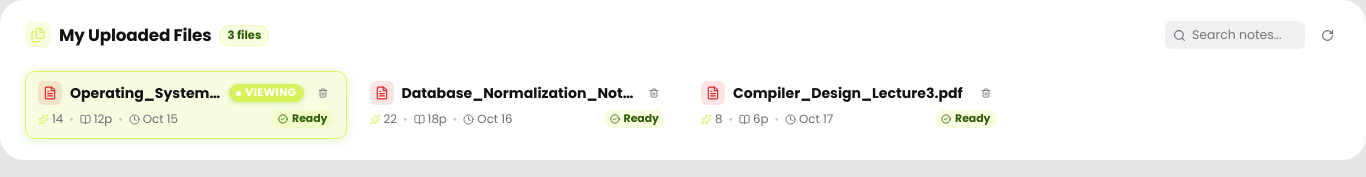
Test case: UploadedFilesSection Component › filters uploaded files by search query
Type "compiler" into the search field named "search uploaded files" at {"x": 1235, "y": 35}, box [1165, 21, 1305, 49]
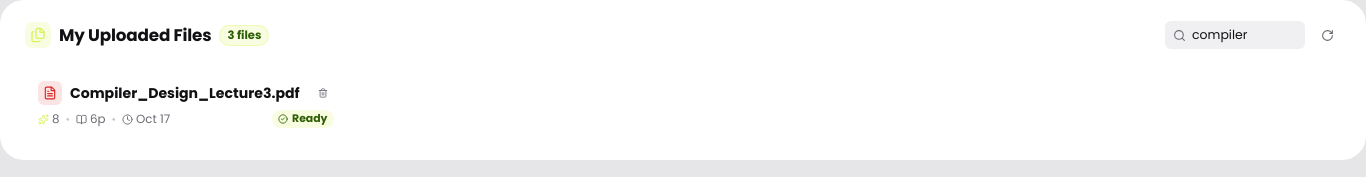
Expected: the text "Compiler_Design_Lecture3.pdf" is shown, [70, 82, 304, 104]
Expected: the text "Operating_Systems_Chapter1.pdf" is gone
Expected: the text "Database_Normalization_Notes.pdf" is gone
